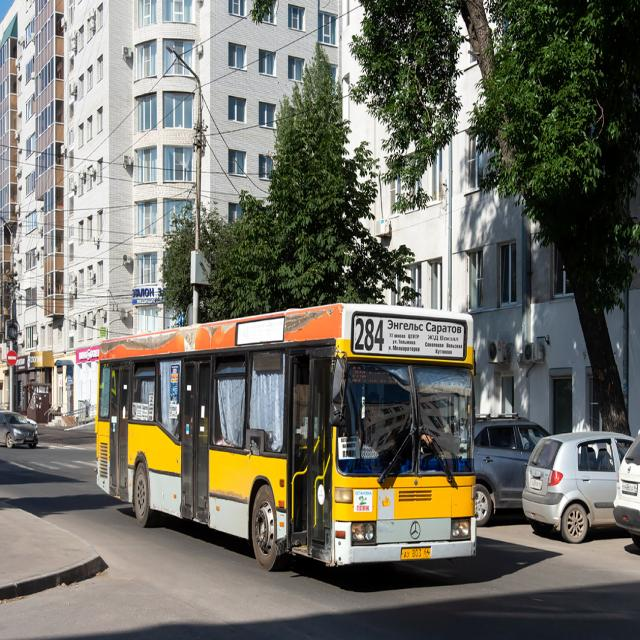number-of-bus: (355, 315, 387, 354)
